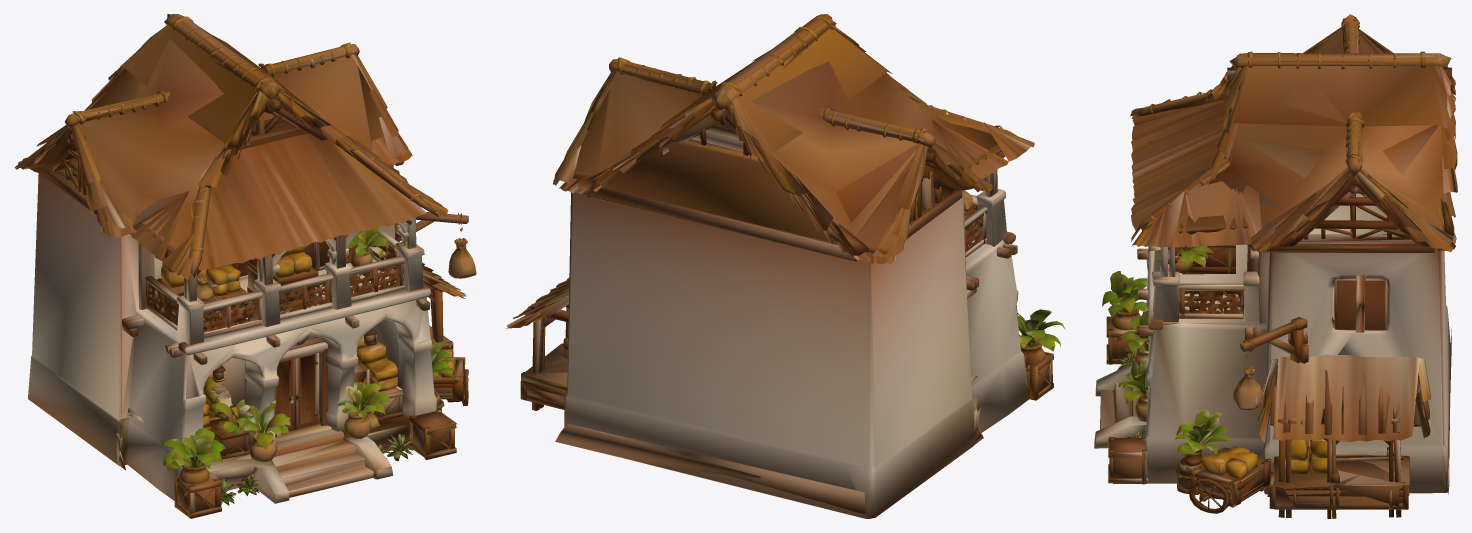
The model's file is preview.glb.
3 renders of one model, left to right at view 1: azimuth 30°, elevation 25°; view 2: azimuth 150°, elevation 25°; view 3: azimuth 270°, elevation 25°, orthographic. The views are drawn at different scales.
Parts seen in each view (by area): view 1: Mesh_0; view 2: Mesh_0; view 3: Mesh_0.
Part boxes in pixels (<box>): Mesh_0: <box>14,14,476,518</box>; Mesh_0: <box>506,14,1065,518</box>; Mesh_0: <box>1094,14,1457,518</box>.
Size of the model in its own units: 8.62 by 8 by 7.1.
